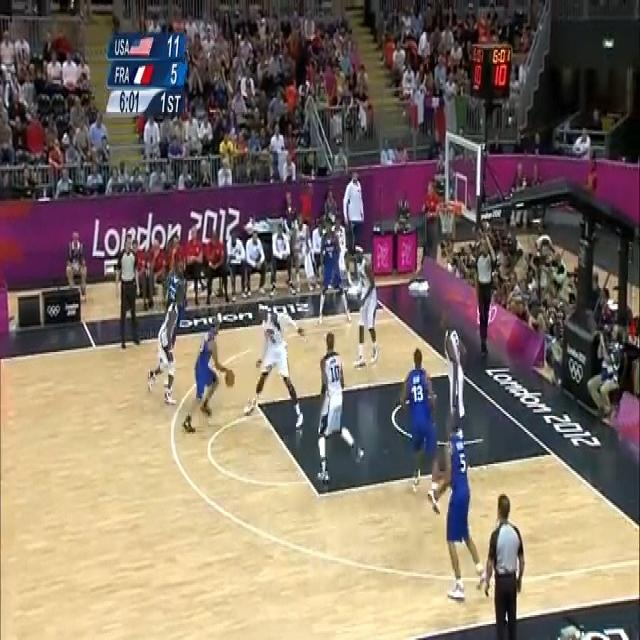basketball: (225, 372, 235, 387)
hoop: (434, 204, 457, 236)
person: (401, 349, 437, 490), (255, 304, 299, 402), (344, 173, 364, 252), (89, 112, 110, 164)
